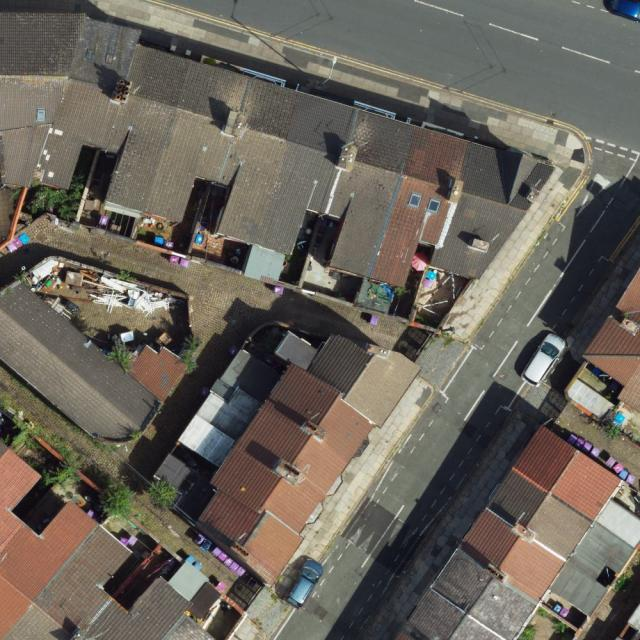roof: (0, 14, 566, 287), (201, 334, 423, 590), (392, 423, 622, 640), (0, 440, 215, 640), (0, 281, 191, 444), (583, 265, 640, 414)
skylight: (426, 195, 444, 215), (409, 189, 424, 210), (35, 105, 47, 123)
